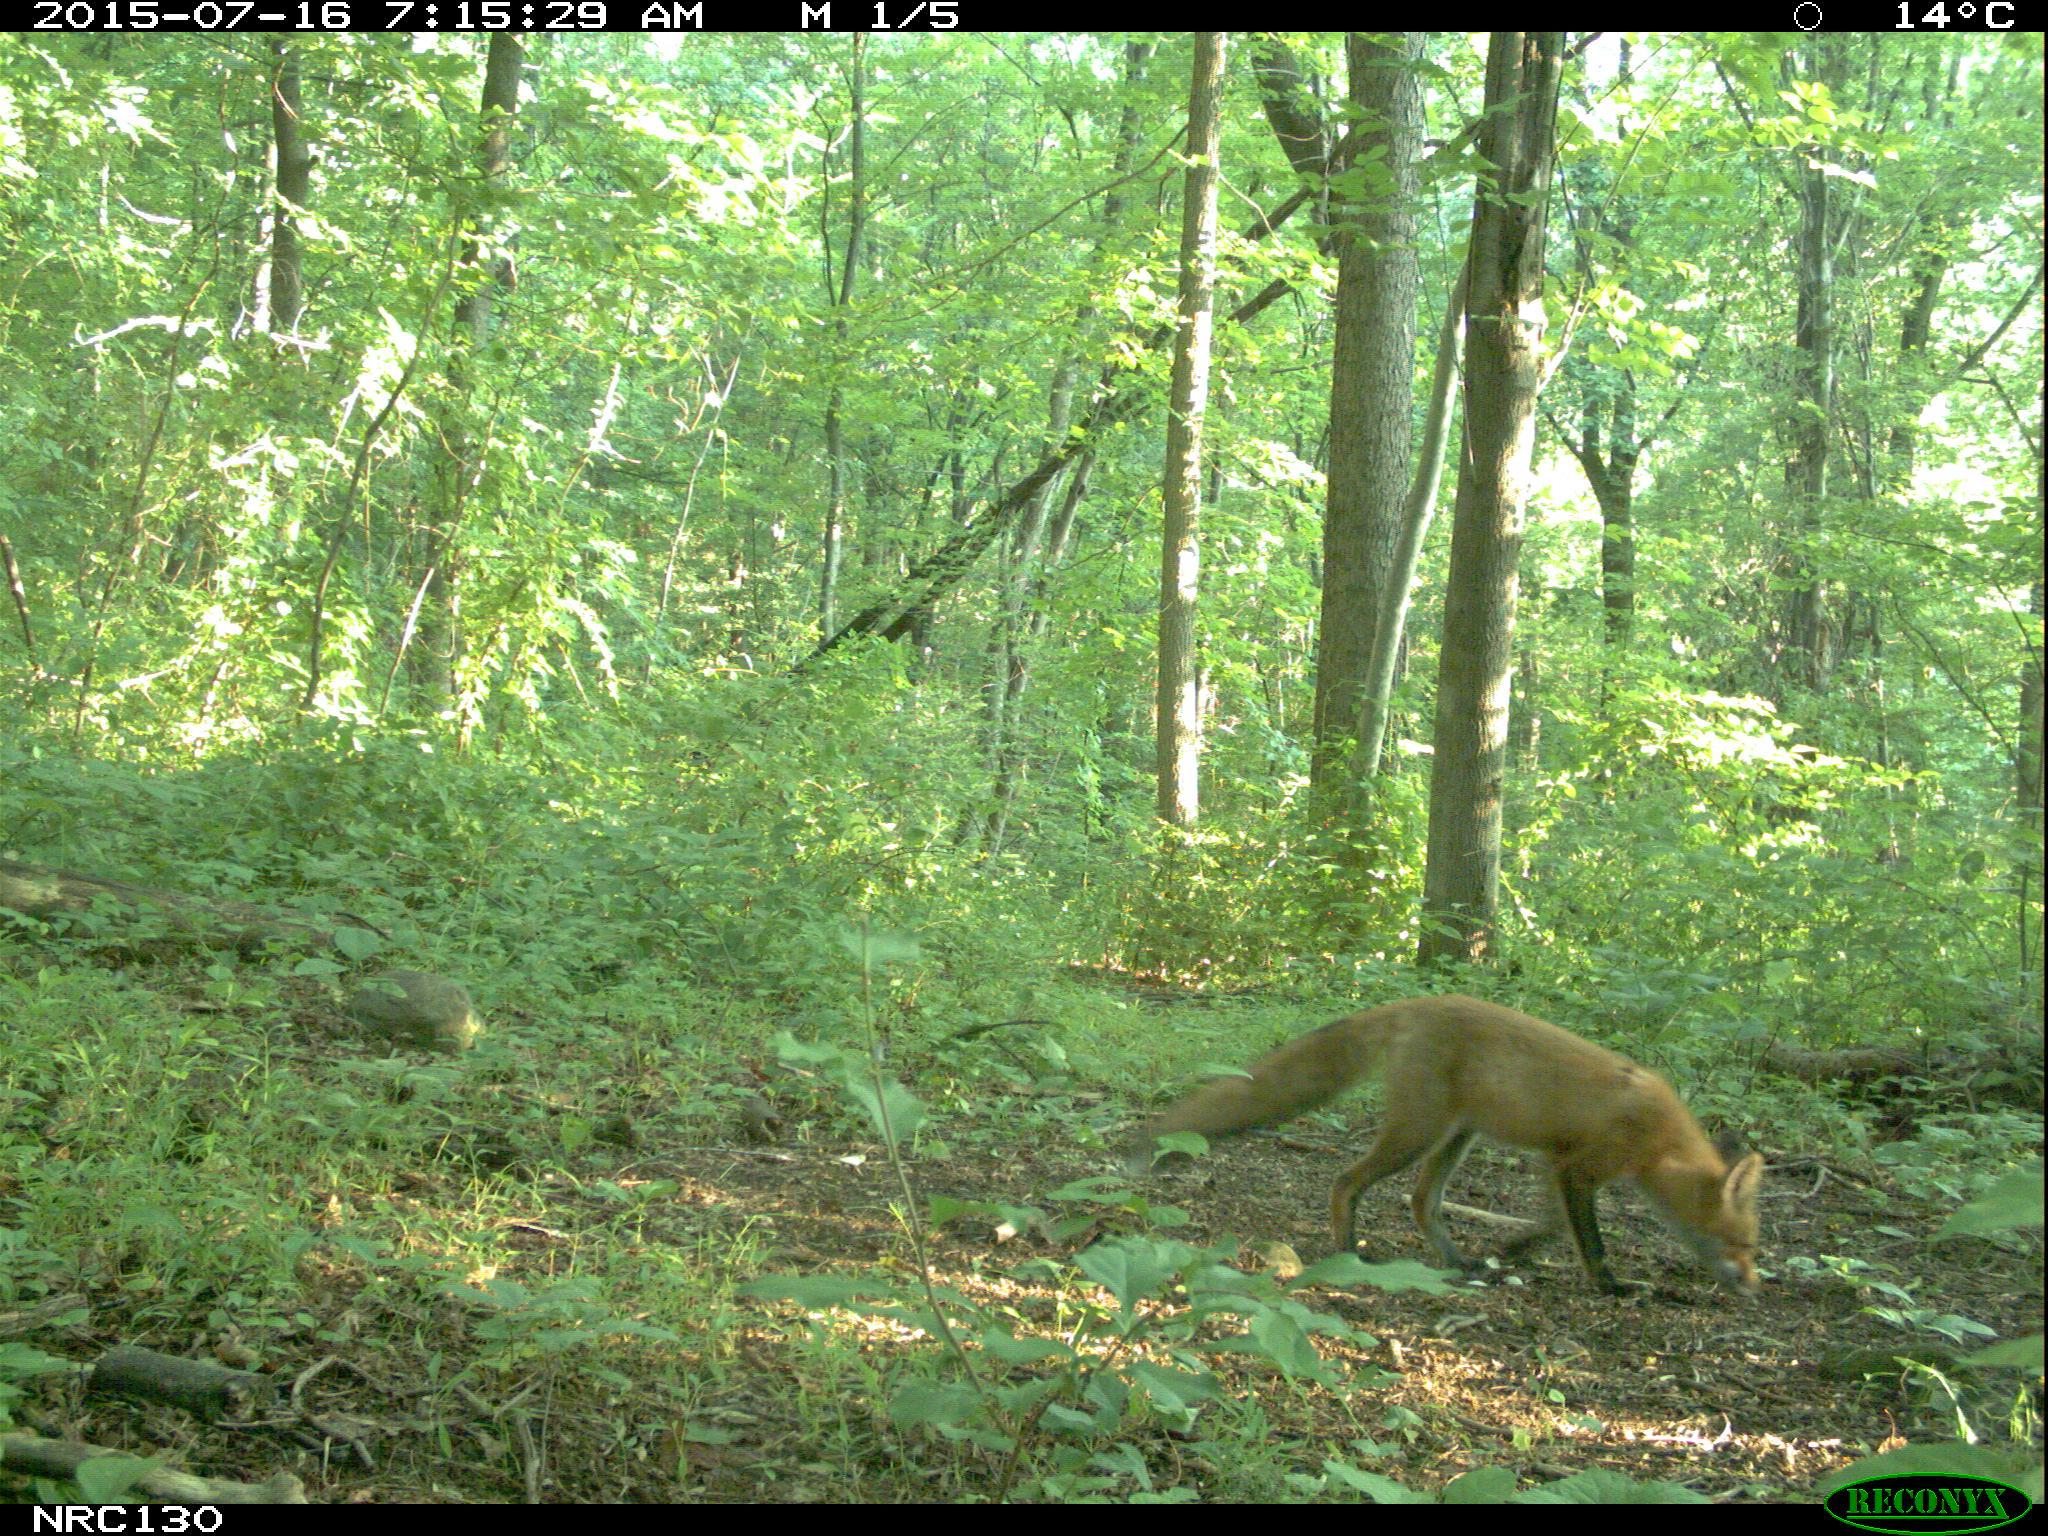Animal: (1164, 992, 1766, 1304)
